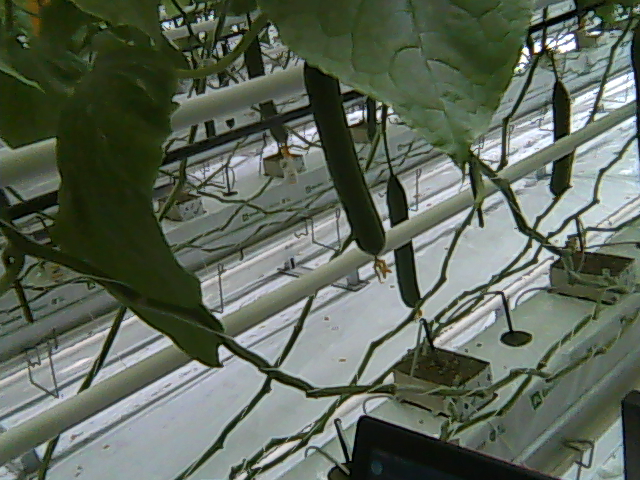concombre: (297, 57, 390, 289)
